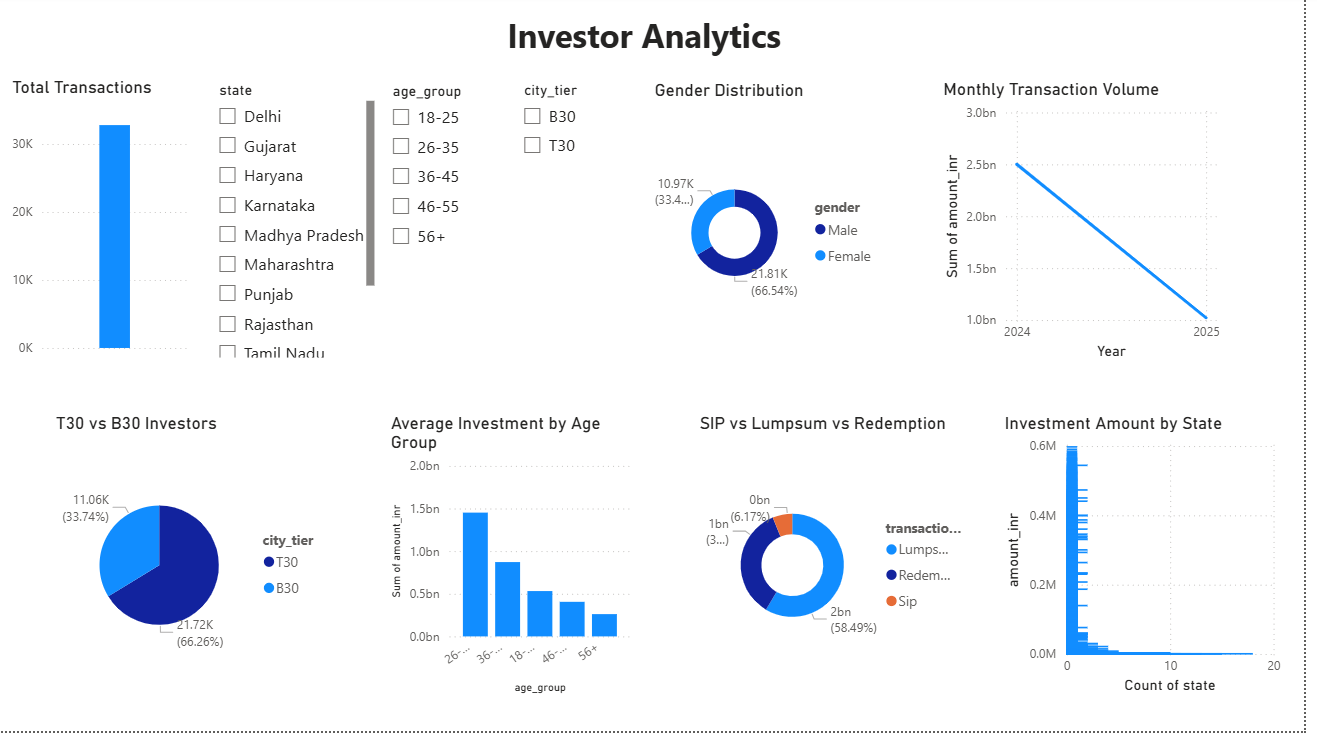

The dashboard page shown, as its layout file describes it:
{"tool":"powerbi","page":{"name":"Investor Analytics","canvas":[1280,720],"ordinal":2},"visuals":[{"type":"clusteredBarChart","title":"Investment Amount by State","fields":{"Y":["CountNonNull(clean_transactions.state)"],"Category":["clean_transactions.amount_inr"]},"box":[981.9,408.4,280,280],"z":0},{"type":"donutChart","title":"SIP vs Lumpsum vs Redemption","fields":{"Category":["clean_transactions.transaction_type"],"Y":["Sum(clean_transactions.amount_inr)"]},"box":[683.6,408.4,270.2,280],"z":1},{"type":"clusteredColumnChart","title":"Average Investment by Age Group","fields":{"Category":["clean_transactions.age_group"],"Y":["Sum(clean_transactions.amount_inr)"]},"box":[381.5,408.4,244.6,280],"z":2},{"type":"donutChart","title":"Gender Distribution","fields":{"Category":["clean_transactions.gender"],"Y":["CountNonNull(clean_transactions.investor_id)"]},"box":[639.5,83.2,231.1,280],"z":3},{"type":"lineChart","title":"Monthly Transaction Volume","fields":{"Category":["clean_transactions.transaction_date.Variation.Date Hierarchy.Year","clean_transactions.transaction_date.Variation.Date Hierarchy.Quarter","clean_transactions.transaction_date.Variation.Date Hierarchy.Month","clean_transactions.transaction_date.Variation.Date Hierarchy.Day"],"Y":["Sum(clean_transactions.amount_inr)"]},"box":[922,81.9,280,280],"z":4},{"type":"pieChart","title":"T30 vs B30 Investors","fields":{"Category":["clean_transactions.city_tier"],"Y":["CountNonNull(clean_transactions.investor_id)"]},"box":[53.8,408.4,280,280],"z":5},{"type":"slicer","fields":{"Values":["clean_transactions.state"]},"box":[205.4,79.5,170,280],"z":6},{"type":"slicer","fields":{"Values":["clean_transactions.age_group"]},"box":[375.4,80.7,128.4,280],"z":7},{"type":"slicer","fields":{"Values":["clean_transactions.city_tier"]},"box":[503.8,79.5,101.5,280],"z":8},{"type":"clusteredColumnChart","fields":{"Y":["alpha_beta.Total Transactions"]},"box":[11,79.5,182.2,280],"z":9},{"type":"textbox","box":[100.3,12.2,1067.5,67.3],"z":10}]}

Visuals, with their boxes in screenshot pixels (x1, y1, x2, y2), scaled from the page's 1280x720 canvas onto the 1317x735 screenshot:
"Investment Amount by State" clusteredBarChart: left=1010, top=417, right=1298, bottom=703
"SIP vs Lumpsum vs Redemption" donutChart: left=703, top=417, right=981, bottom=703
"Average Investment by Age Group" clusteredColumnChart: left=393, top=417, right=644, bottom=703
"Gender Distribution" donutChart: left=658, top=85, right=896, bottom=371
"Monthly Transaction Volume" lineChart: left=949, top=84, right=1237, bottom=369
"T30 vs B30 Investors" pieChart: left=55, top=417, right=343, bottom=703
slicer - clean_transactions.state: left=211, top=81, right=386, bottom=367
slicer - clean_transactions.age_group: left=386, top=82, right=518, bottom=368
slicer - clean_transactions.city_tier: left=518, top=81, right=623, bottom=367
clusteredColumnChart - alpha_beta.Total Transactions: left=11, top=81, right=199, bottom=367
textbox: left=103, top=12, right=1202, bottom=81
